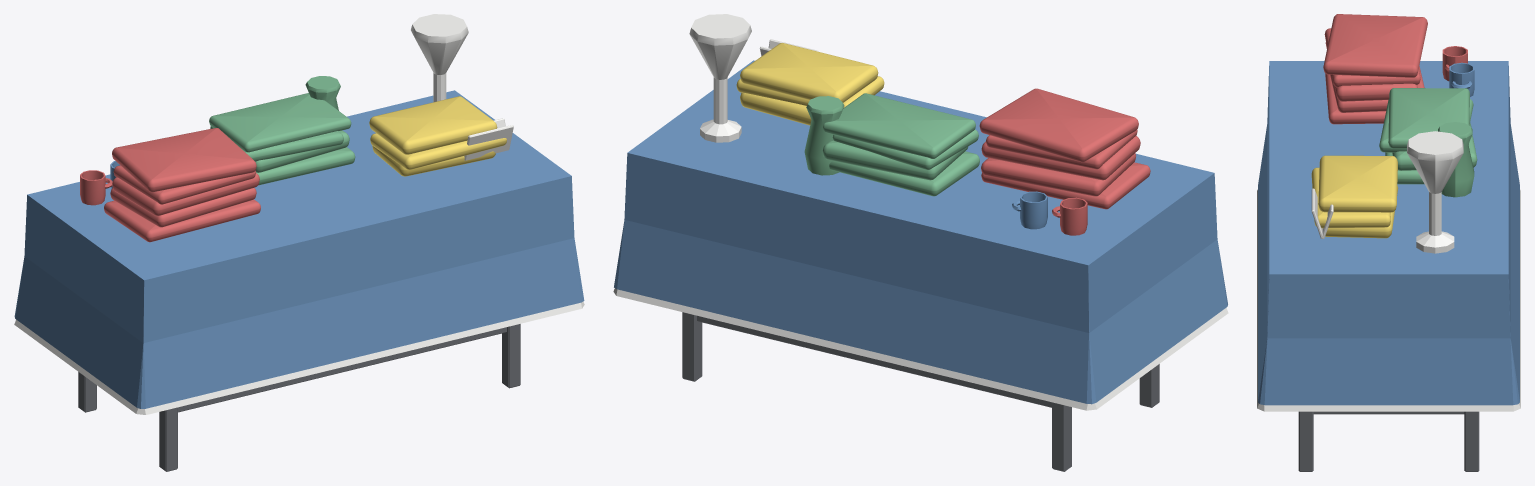
3 views of the same model, side by side, from view 1: azimuth 30°, elevation 25°; view 2: azimuth 150°, elevation 25°; view 3: azimuth 270°, elevation 25° (orthographic). The views are drawn at different scales.
Parts seen in each view (by area): view 1: jumble-sale-table; view 2: jumble-sale-table; view 3: jumble-sale-table.
Boxes of the visible parts, x1,y1,x2,y2 form: jumble-sale-table: [14, 14, 584, 471]; jumble-sale-table: [613, 14, 1228, 471]; jumble-sale-table: [1257, 14, 1520, 471].
Size of the model in its own units: 1.6 by 1.07 by 0.7959.
